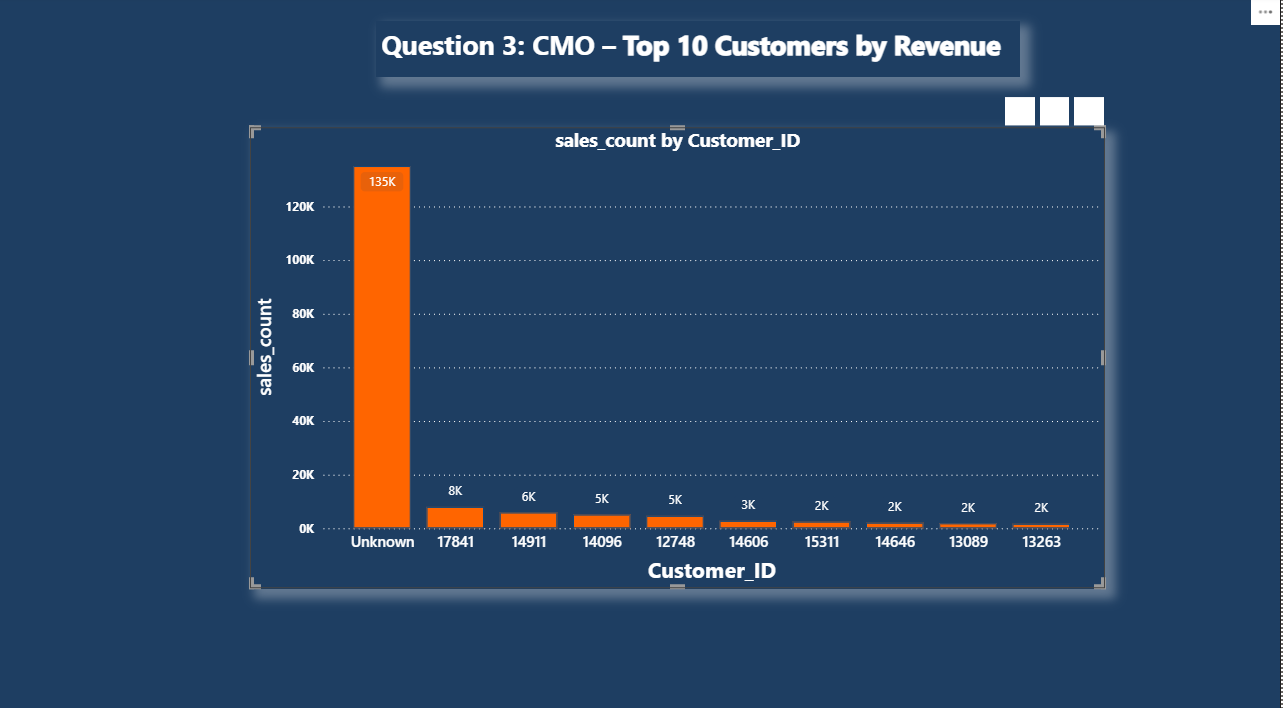

What the dashboard file says about the page in this screenshot:
{"tool":"powerbi","page":{"name":"Page 3","canvas":[1280,720],"ordinal":2},"visuals":[{"type":"shape","box":[0,0,1280.3,719],"z":0},{"type":"clusteredColumnChart","fields":{"Category":["Online Retail.Customer_ID"],"Y":["Online Retail.sales_count"]},"box":[253.2,130.8,851.5,459.1],"z":1000},{"type":"textbox","box":[379.8,25,633,55.7],"z":1001}]}

Visuals, with their boxes in screenshot pixels (x1, y1, x2, y2), scaled from the page's 1280x720 canvas onto the 1283x708 screenshot:
shape: 0, 0, 1282, 707
clusteredColumnChart - Online Retail.Customer_ID x Online Retail.sales_count: 254, 129, 1107, 580
textbox: 381, 25, 1015, 79
